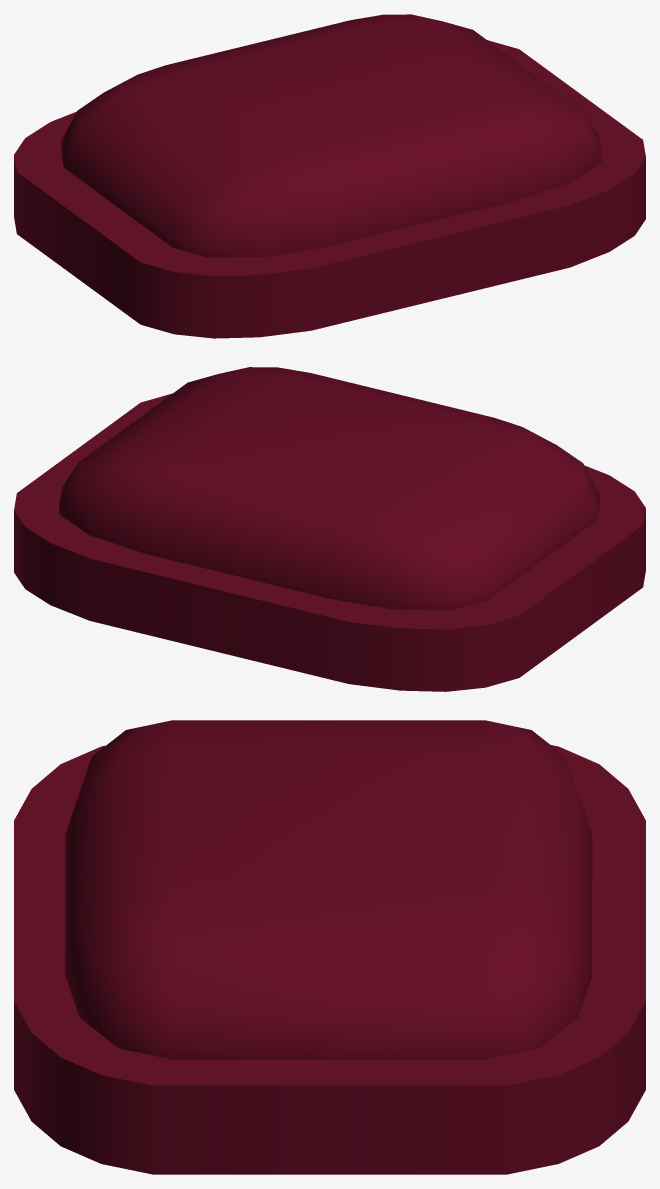
File: BigButton.fbx
3 views of the same model, one above another, from view 1: azimuth 30°, elevation 25°; view 2: azimuth 150°, elevation 25°; view 3: azimuth 270°, elevation 25° (orthographic). The views are drawn at different scales.
Visible parts, largest first — view 1: Box120; view 2: Box120; view 3: Box120.
Boxes of the visible parts, left/top/right/bottom form: Box120: left=14, top=14, right=645, bottom=338; Box120: left=14, top=367, right=645, bottom=691; Box120: left=14, top=720, right=645, bottom=1174.
Bounding box in the file's own units: 5.7 × 1.4 × 4.35.
